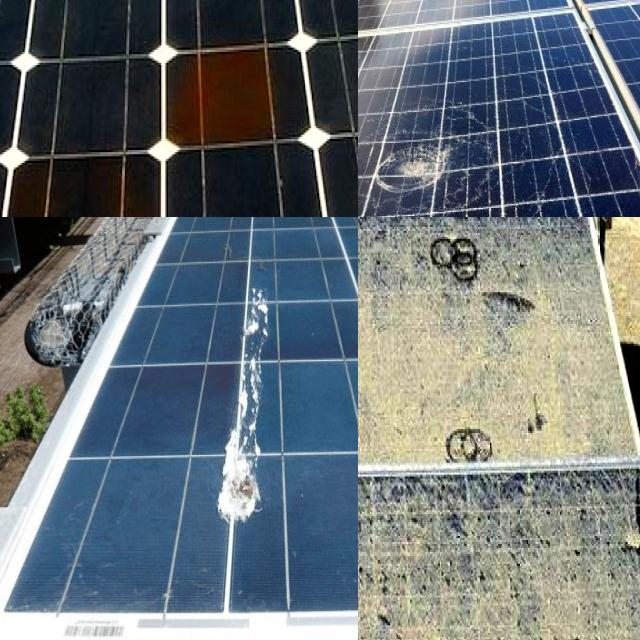bird: (216, 274, 277, 535)
dust: (380, 217, 528, 467), (358, 477, 526, 640), (358, 217, 430, 457), (538, 479, 640, 640), (358, 477, 439, 640), (538, 228, 596, 454), (358, 217, 536, 266), (358, 228, 387, 496), (358, 226, 383, 500), (600, 342, 639, 476), (358, 539, 407, 640), (358, 217, 448, 261), (358, 217, 374, 396)
hotspot: (371, 121, 479, 217)
shadow: (150, 34, 298, 154), (0, 161, 172, 217)
